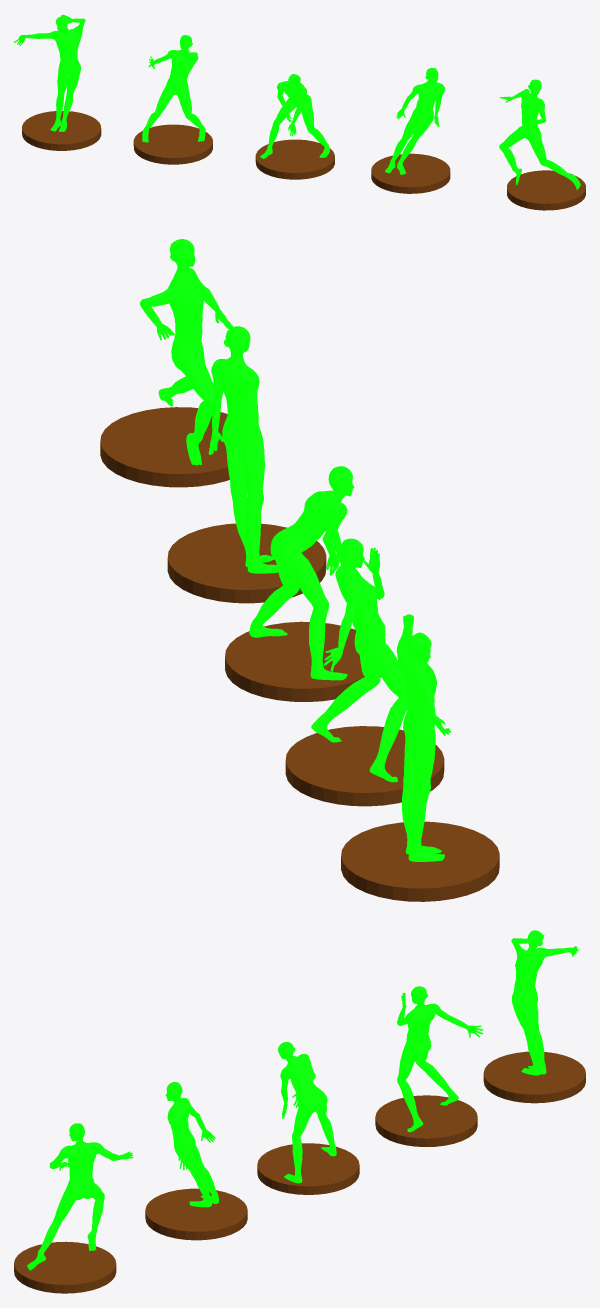
The model's file is FIG.glb.
3 renders of one model, top to bottom at view 1: azimuth 30°, elevation 25°; view 2: azimuth 150°, elevation 25°; view 3: azimuth 270°, elevation 25°, orthographic. The views are drawn at different scales.
Visible parts, largest first — view 1: Figure; view 2: Figure; view 3: Figure.
Boxes of the visible parts, box(x1,y1,x2,y2) form: Figure: box(14, 14, 585, 210); Figure: box(100, 239, 499, 901); Figure: box(14, 930, 585, 1293).
Size of the model in its own units: 5.33 by 1.61 by 5.52.
